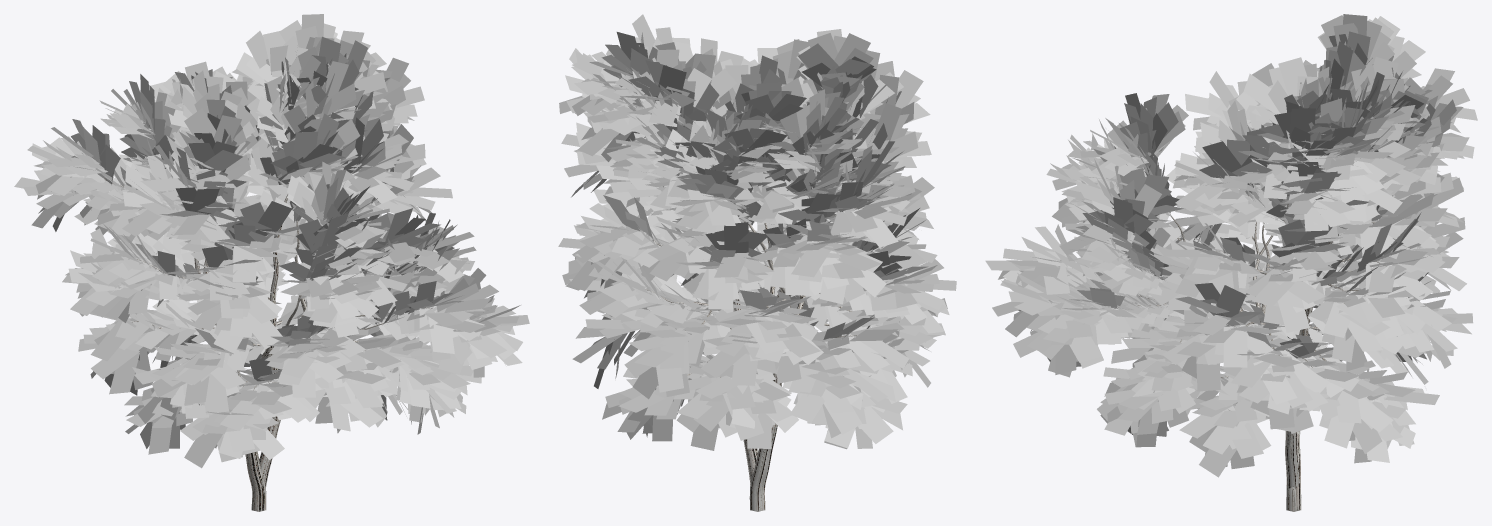
File: drzewoDEL2.fbx
3 renders of one model, left to right at view 1: azimuth 30°, elevation 25°; view 2: azimuth 150°, elevation 25°; view 3: azimuth 270°, elevation 25°, orthographic. The views are drawn at different scales.
Parts seen in each view (by area): view 1: leaves, tree; view 2: leaves, tree; view 3: leaves, tree.
Part boxes in pixels (<box>): leaves: <box>14,14,529,468</box>; tree: <box>92,114,432,511</box>; leaves: <box>558,14,956,450</box>; tree: <box>632,172,865,511</box>; leaves: <box>985,14,1477,477</box>; tree: <box>1131,152,1386,511</box>.
Size of the model in its own units: 778 by 919 by 876.
